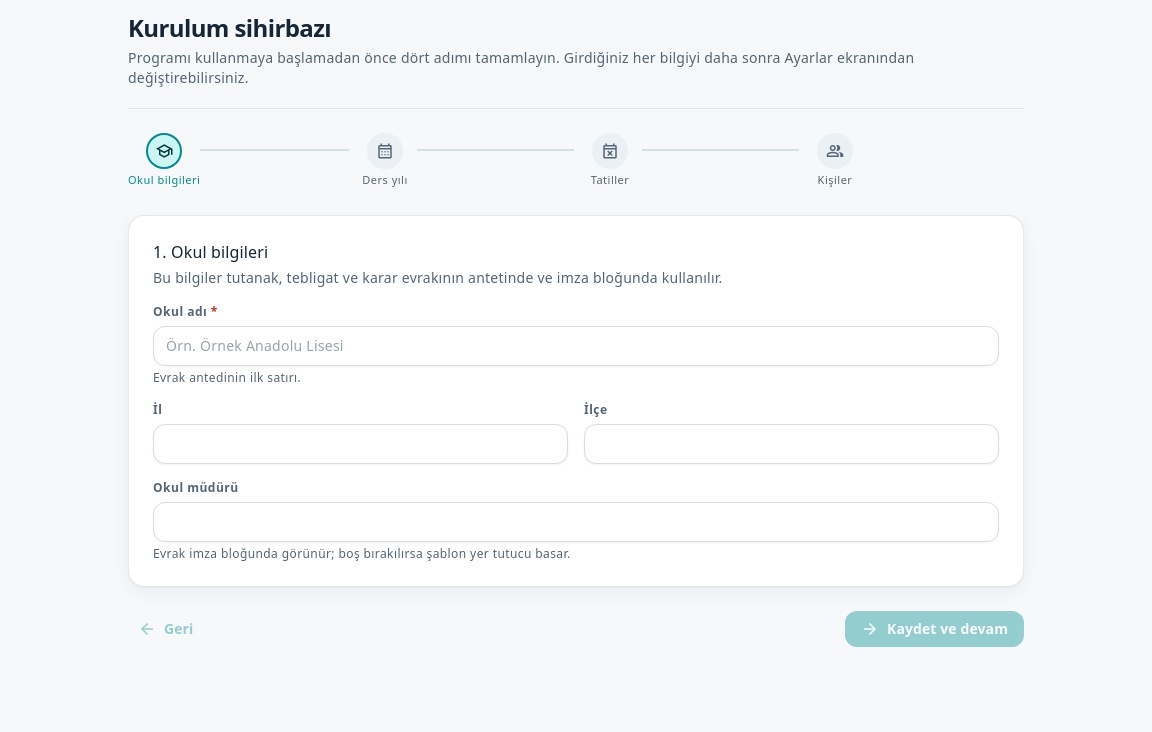
Test: KurulumPage › kayıt hatasında Türkçe hata bandı + alan hatası gösterilir
Expected: the text "1. Okul bilgileri" is shown, top-left (153, 241), bottom-right (268, 263)
Step 1. Type "X" into the field labelled "Okul adı *" → (576, 346), box top-left (166, 336), bottom-right (986, 356)
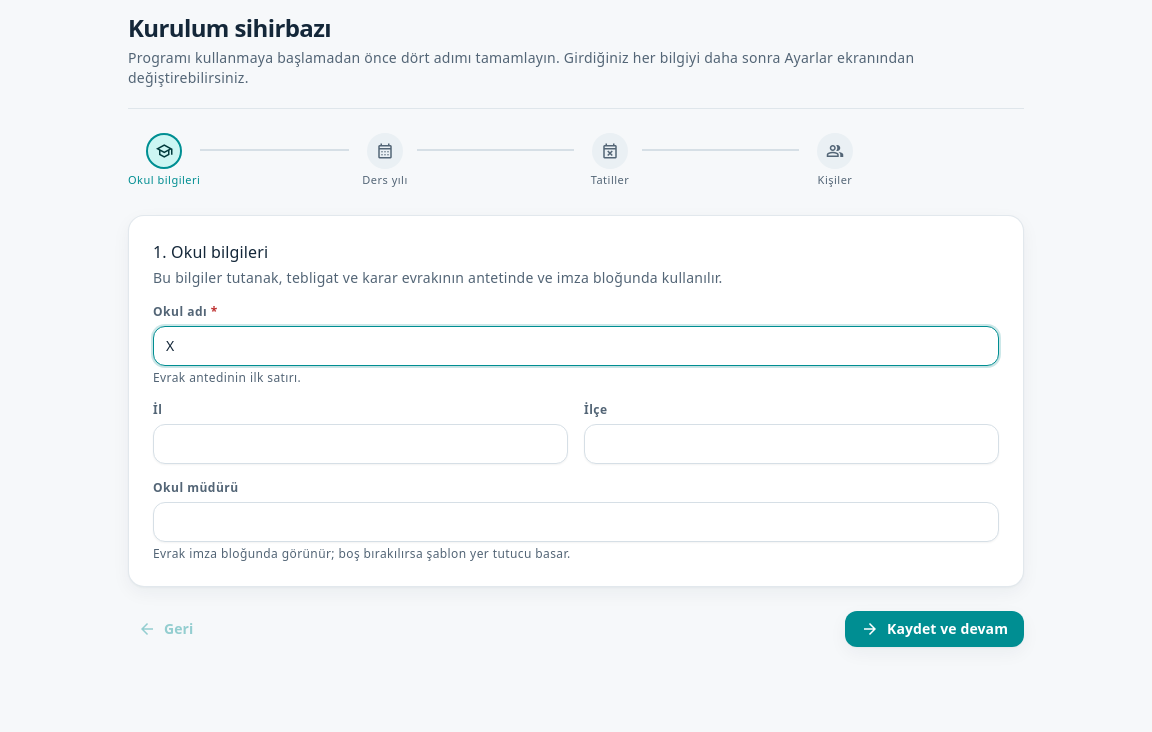
Step 2. Click the button "Kaydet ve devam" → (934, 629), box top-left (845, 611), bottom-right (1024, 647)
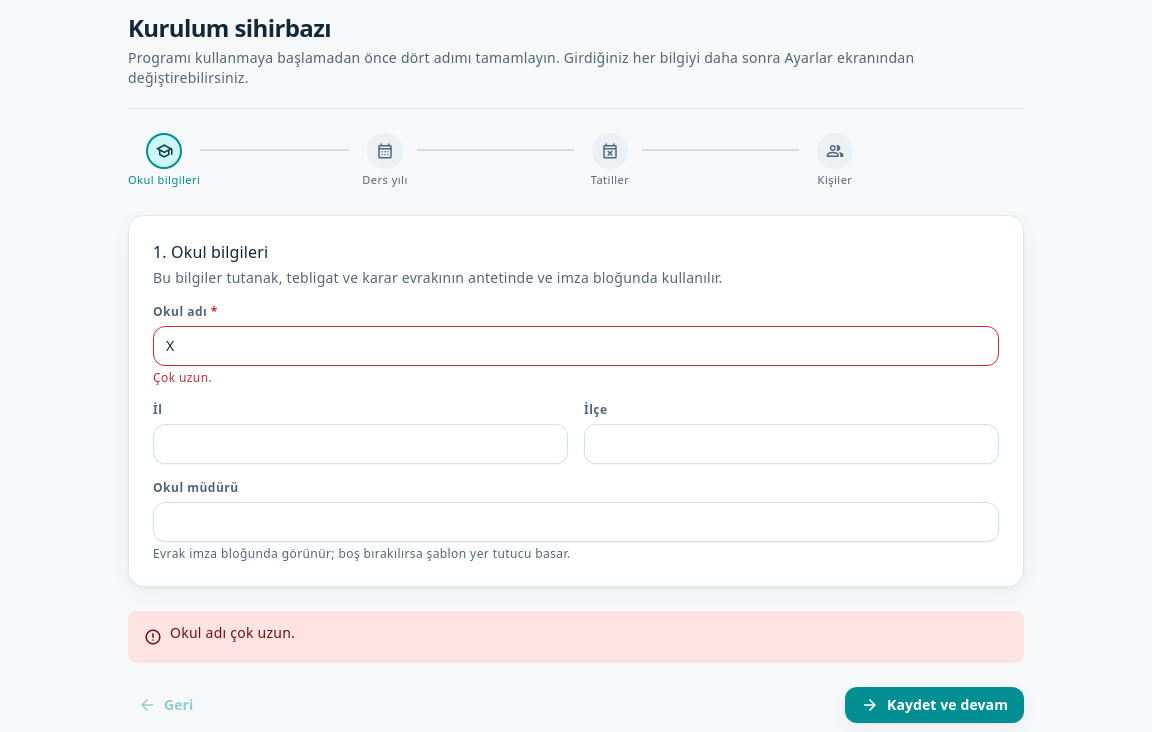
Expected: the text "1. Okul bilgileri" is shown, top-left (153, 241), bottom-right (268, 263)
Expected: the text "Okul adı çok uzun." is shown, top-left (170, 623), bottom-right (295, 643)
Expected: the text "Çok uzun." is shown, top-left (153, 369), bottom-right (212, 386)
